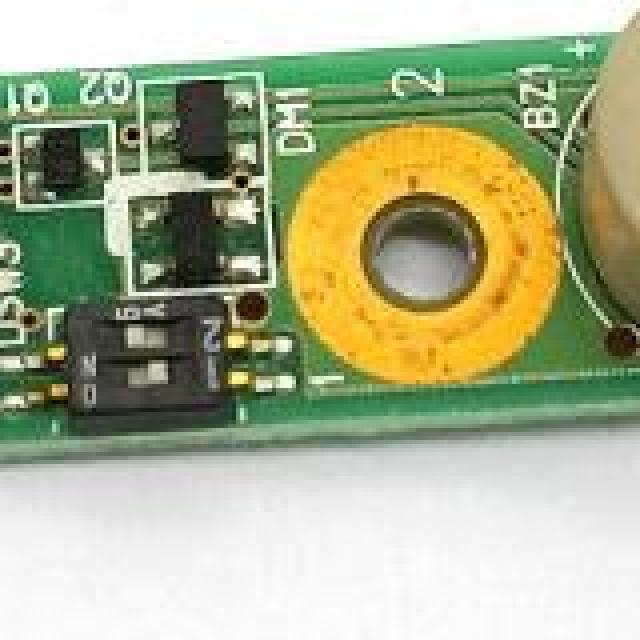IC: (128, 192, 258, 290)
buzzer: (524, 0, 640, 384)
switch: (44, 300, 284, 424)
transistor: (148, 88, 264, 172), (8, 124, 108, 204)
